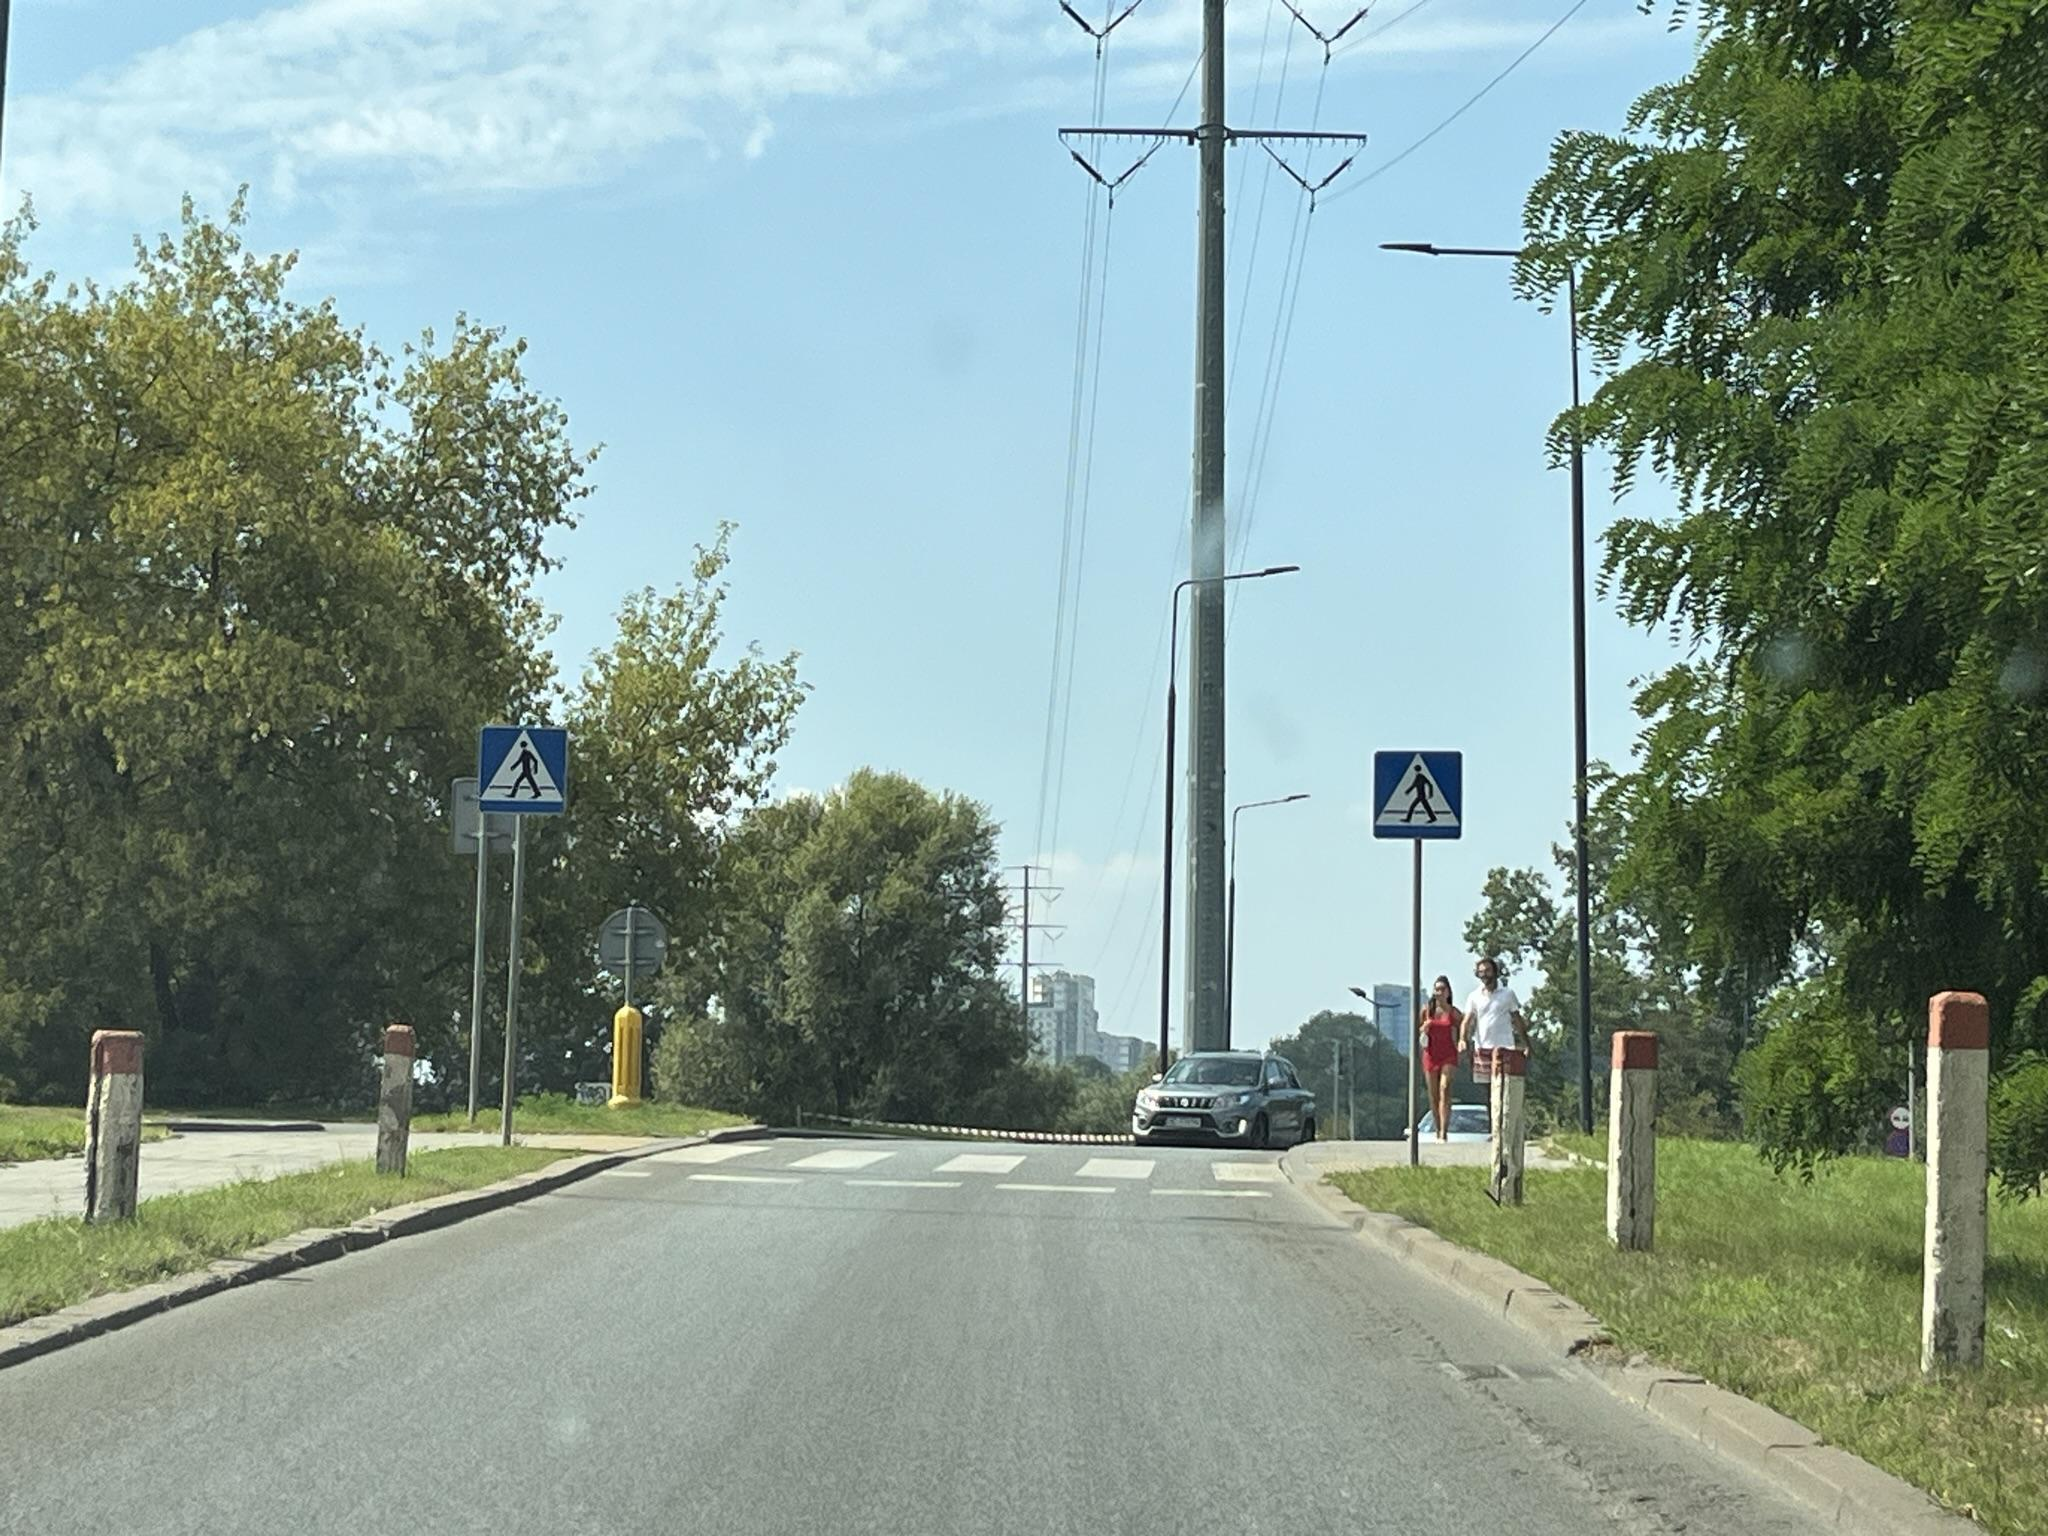information: (481, 726, 568, 812), (1374, 750, 1459, 837)
